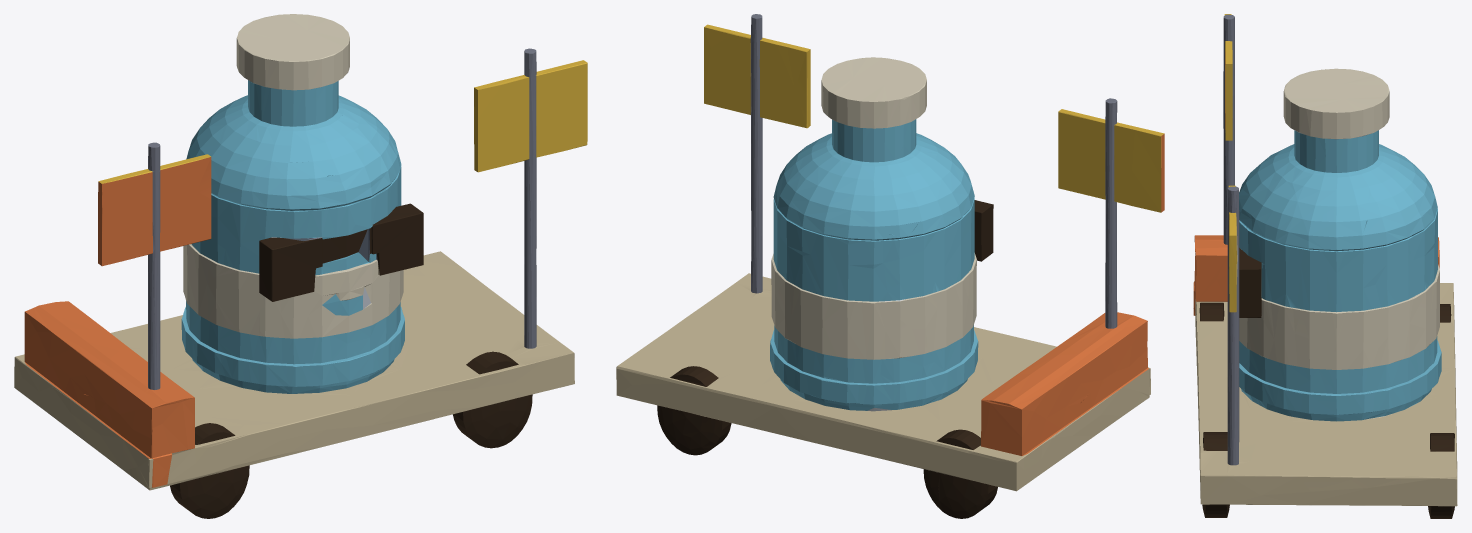
File: float.glb
The picture shows the model from 3 angles, left to right: view 1: azimuth 30°, elevation 25°; view 2: azimuth 150°, elevation 25°; view 3: azimuth 270°, elevation 25°; orthographic projection. The views are drawn at different scales.
Parts seen in each view (by area): view 1: float; view 2: float; view 3: float.
Part boxes in pixels (box(x1,y1,x2,y2)): float: box(14, 14, 587, 518); float: box(616, 14, 1164, 518); float: box(1193, 14, 1457, 518).
Size of the model in its own units: 2.86 by 2.19 by 1.44.
